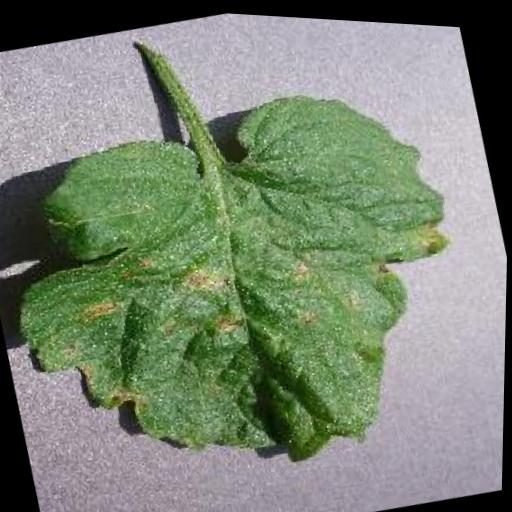Septoria: (0, 52, 501, 512)
